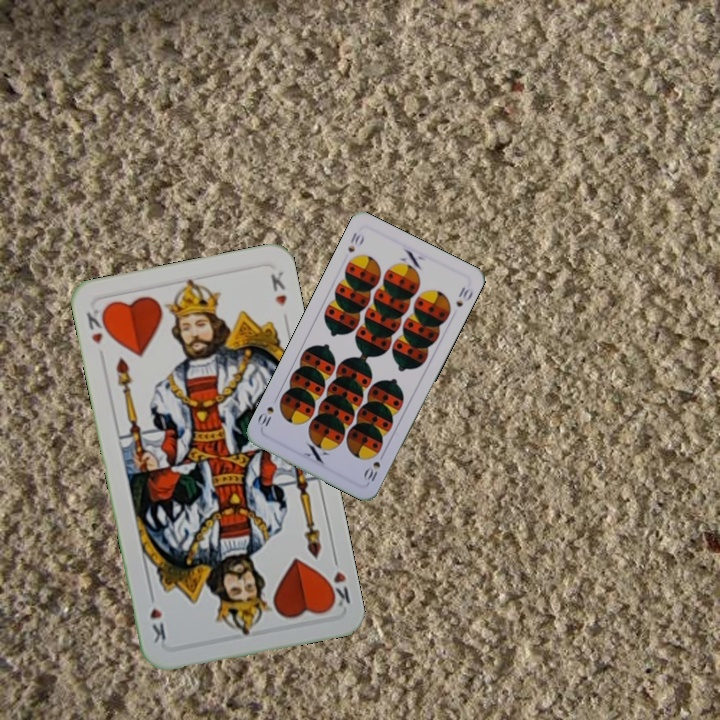HK: (322, 551, 353, 612), (82, 304, 112, 347)
S10: (360, 457, 383, 486), (344, 228, 367, 256)
